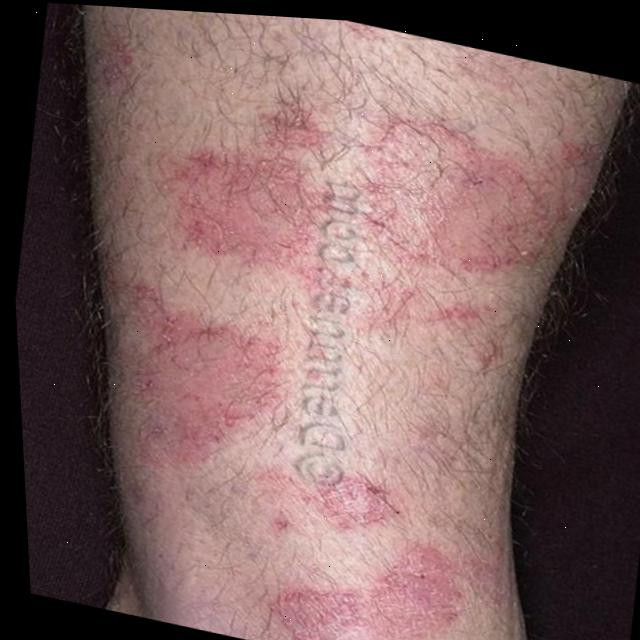Eczema: (59, 49, 600, 640)
